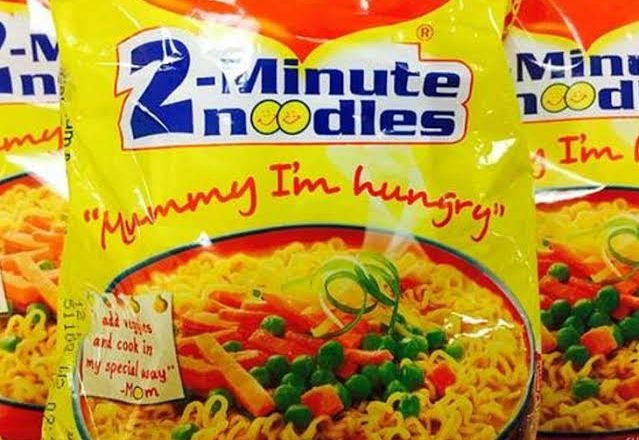maggie: (47, 4, 540, 437)
